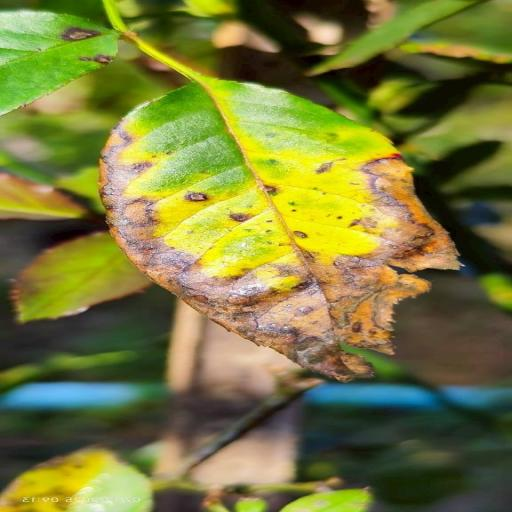thrip: (100, 59, 457, 381)
